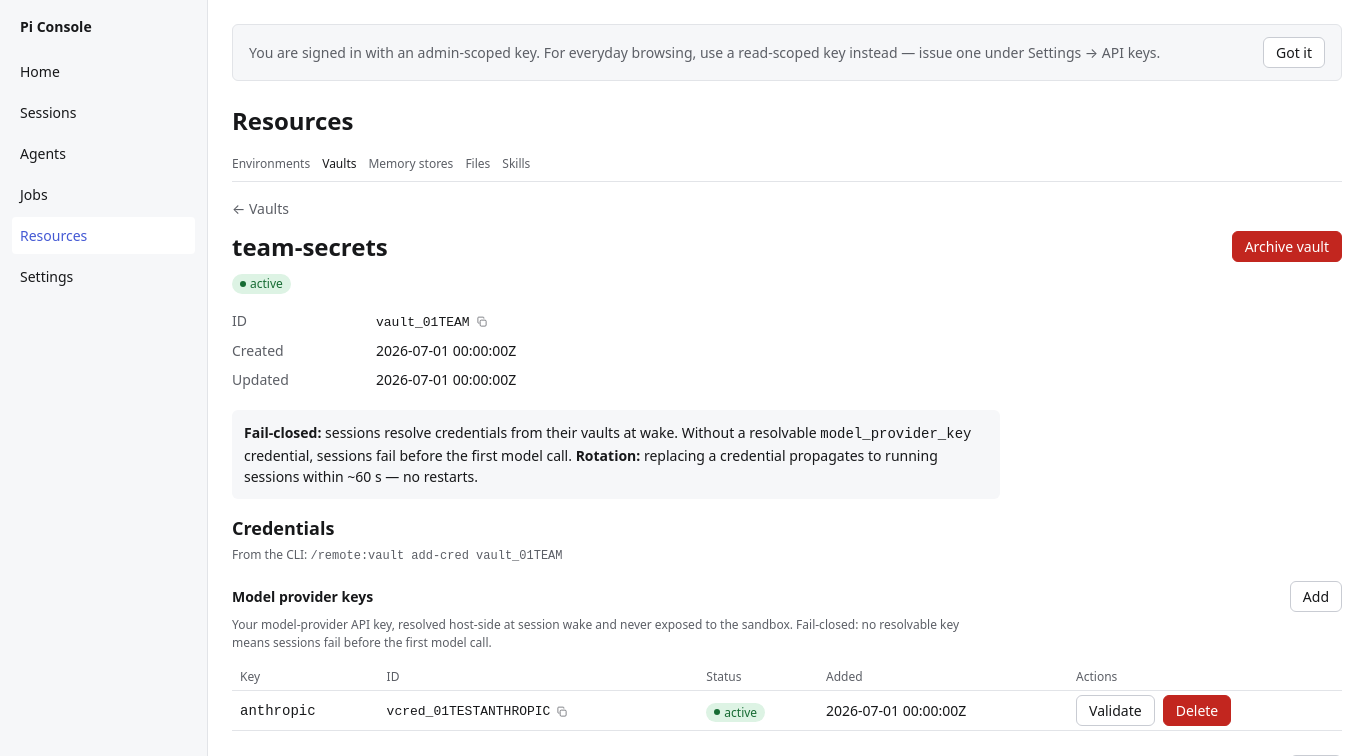
Test case: vault detail (§9.3, W11) › validates a credential live and renders the outcome (§12.5)
Click the button "Validate" at (1115, 711), box [1076,695,1155,726]
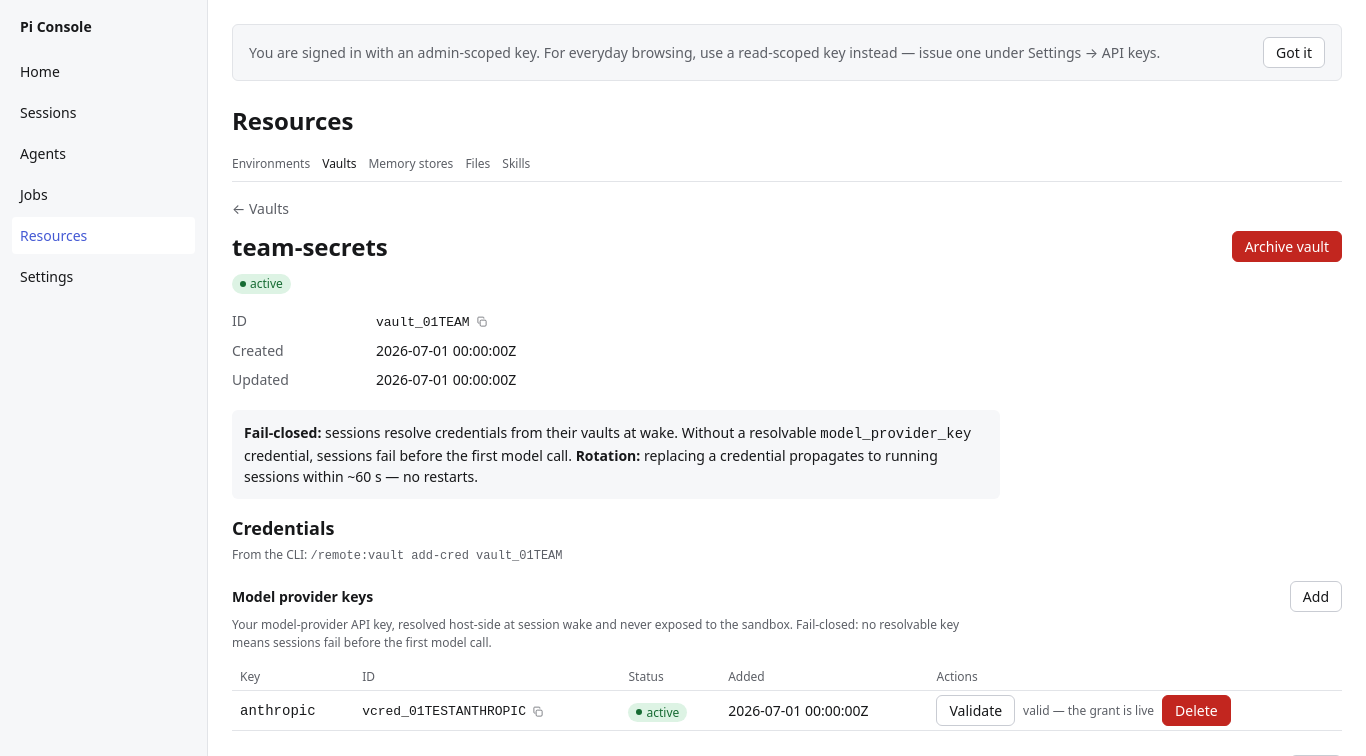
expect the text "valid — the grant is live" is shown: met, box [1023,702,1154,720]
